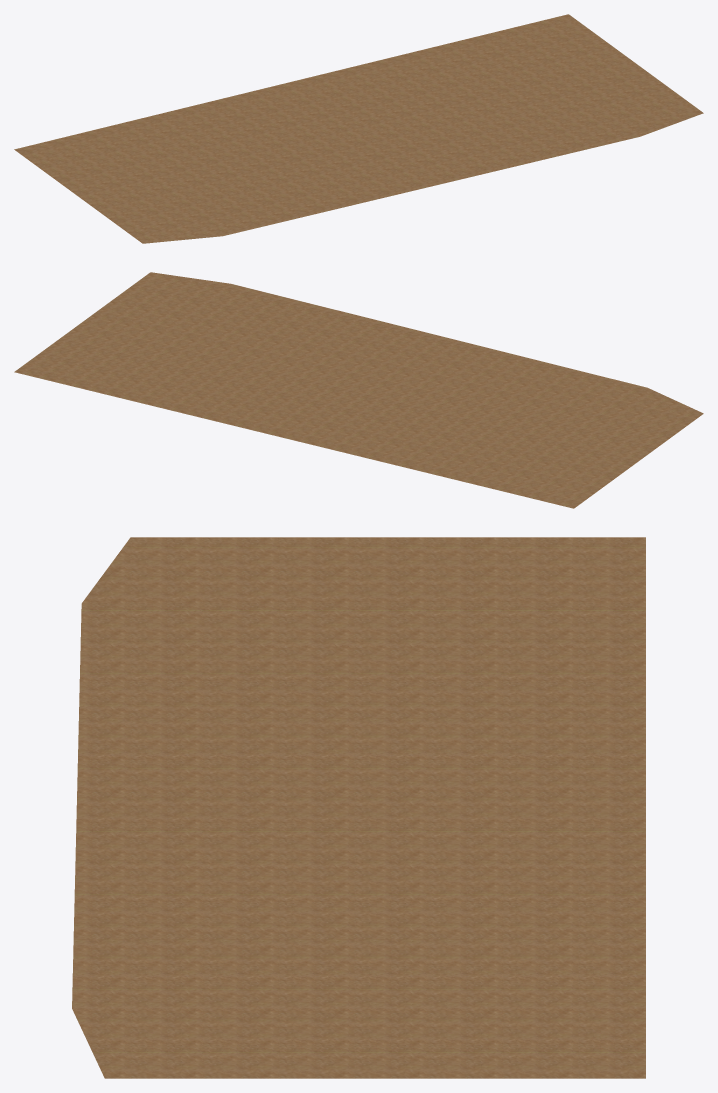
Rendered from guchengqishituan_qiangzhuan_04.FBX.
3 renders of one model, top to bottom at view 1: azimuth 30°, elevation 25°; view 2: azimuth 150°, elevation 25°; view 3: azimuth 270°, elevation 25°, orthographic. The views are drawn at different scales.
Visible parts, largest first — view 1: guchengqishituan_qiangzhuan_4; view 2: guchengqishituan_qiangzhuan_4; view 3: guchengqishituan_qiangzhuan_4.
Part boxes in pixels (left/top/right/bottom): guchengqishituan_qiangzhuan_4: left=14, top=14, right=703, bottom=243; guchengqishituan_qiangzhuan_4: left=14, top=272, right=703, bottom=508; guchengqishituan_qiangzhuan_4: left=72, top=537, right=645, bottom=1078.
Size of the model in its own units: 5445 by 0.000106 by 2440.
